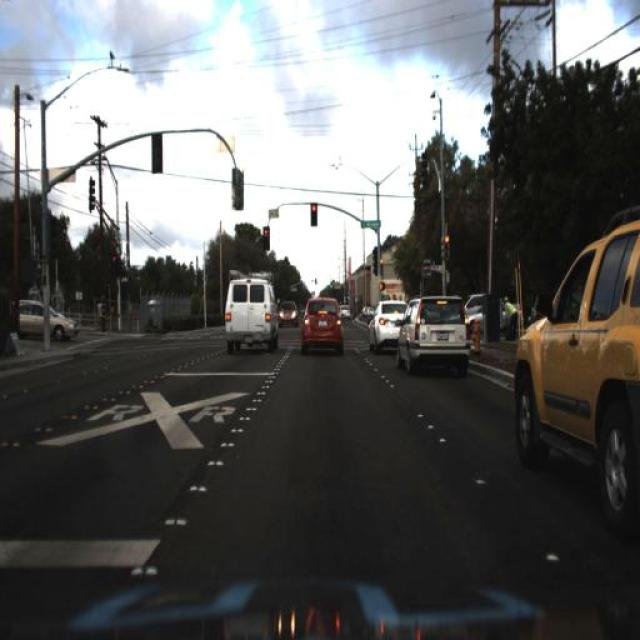car: (504, 218, 638, 507), (393, 290, 472, 370), (9, 281, 76, 350), (222, 273, 274, 351), (11, 290, 80, 344), (296, 293, 348, 358), (367, 298, 408, 352), (364, 296, 396, 352), (275, 290, 300, 330), (462, 310, 488, 340), (462, 287, 487, 308), (278, 298, 296, 323)
trafficLight: (500, 288, 520, 346), (501, 293, 520, 346)
trafficLight-Green: (260, 225, 270, 249)
trafficLight-RedLeft: (438, 231, 454, 268), (438, 230, 452, 256), (308, 198, 318, 230), (378, 252, 387, 278)
trafficLight-Yellow: (106, 248, 120, 284)
